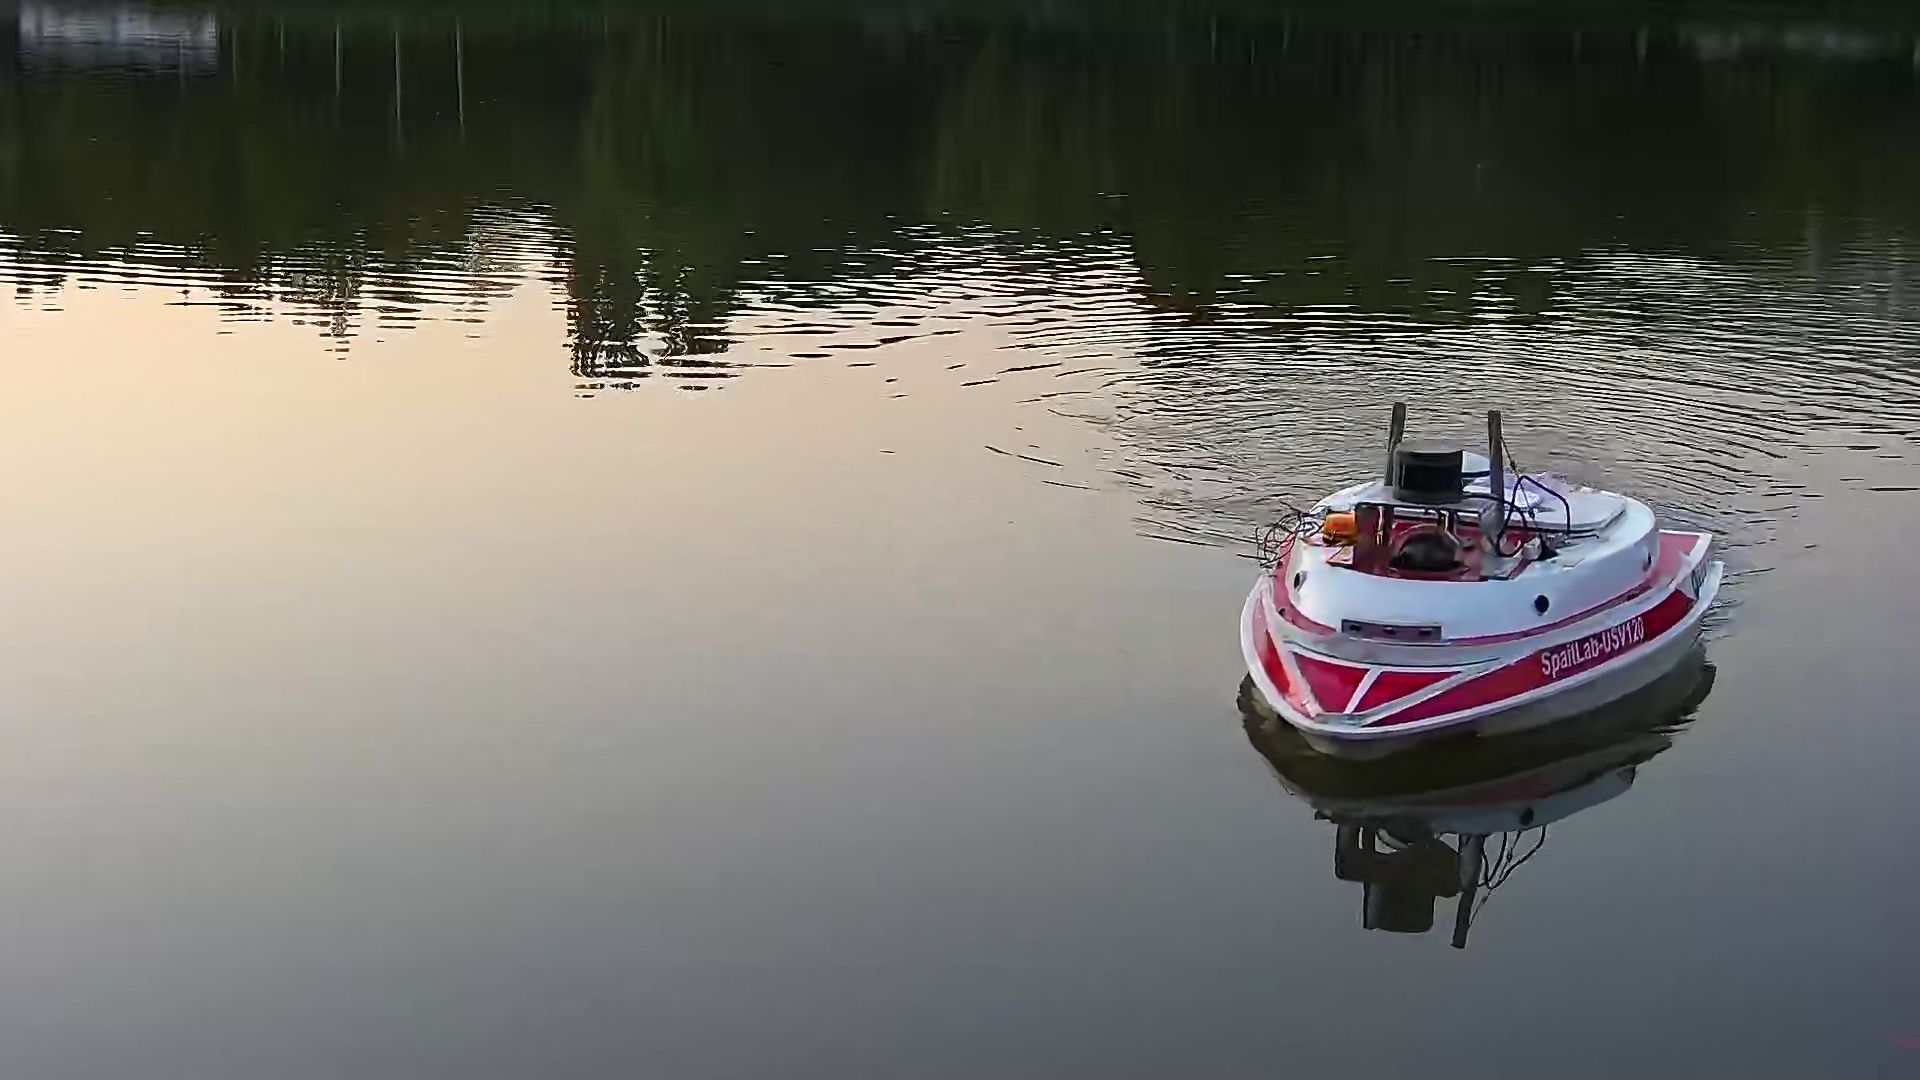boat: (1241, 402, 1725, 777)
